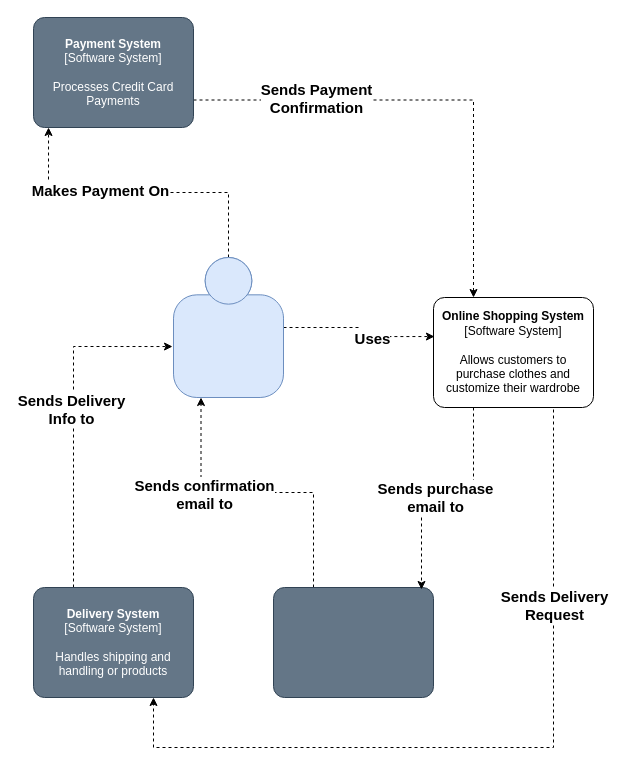
The diagram is 625 pixels wide and 773 high, and some of its shapes have lost their labels. Each missing label, with the centre of its shape:
"Customer [Person] Individuals who utilize the web app to make purchases" goes at pixel 228 327.
"Email System [Software System] Handles e-mails for the system" goes at pixel 353 642.
